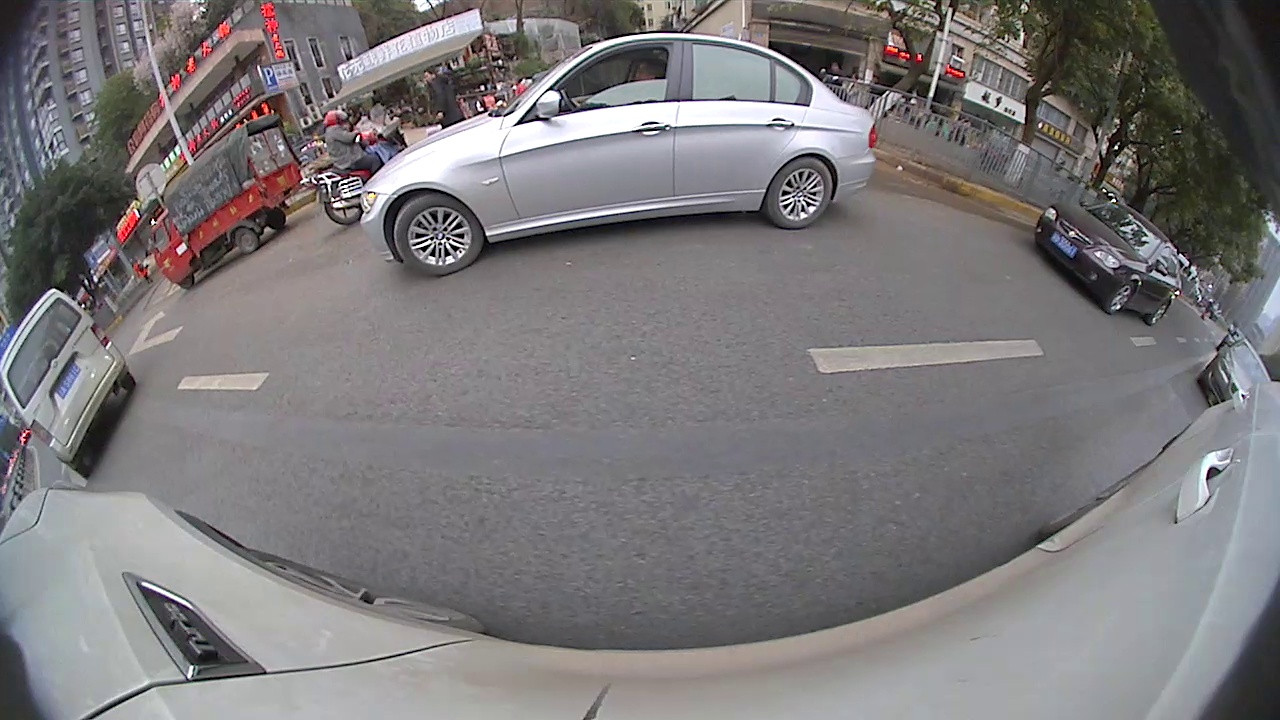car: (355, 30, 878, 279), (2, 285, 140, 484), (1030, 192, 1189, 330), (1196, 335, 1275, 410)
front: (393, 193, 487, 274), (1107, 278, 1135, 315)
rear: (772, 155, 834, 228), (319, 188, 367, 223), (230, 228, 262, 255), (1152, 298, 1175, 325)
rider: (141, 107, 308, 292), (299, 102, 412, 231)
